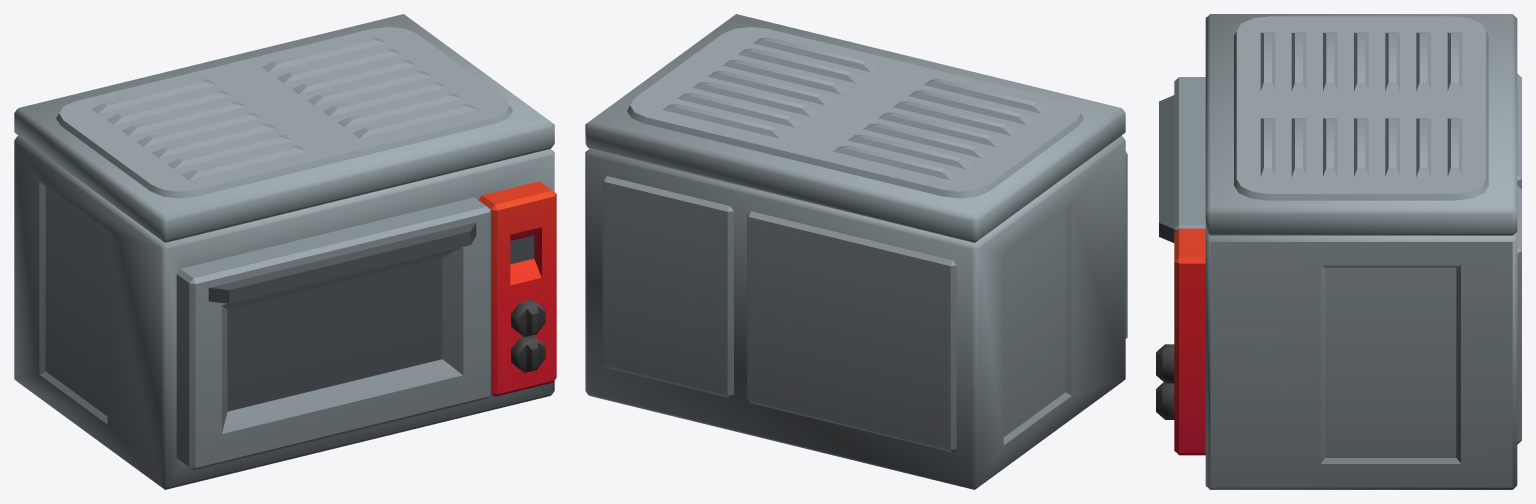
Rendered from pizza_oven.gltf.
3 renders of one model, left to right at view 1: azimuth 30°, elevation 25°; view 2: azimuth 150°, elevation 25°; view 3: azimuth 270°, elevation 25°, orthographic. The views are drawn at different scales.
Visible parts, largest first — view 1: pizza_oven, pizza_oven_door; view 2: pizza_oven; view 3: pizza_oven, pizza_oven_door.
Part boxes in pixels (<box>): pizza_oven: <box>14,14,556,489</box>; pizza_oven_door: <box>176,197,490,470</box>; pizza_oven: <box>585,14,1125,489</box>; pizza_oven: <box>1156,14,1521,489</box>; pizza_oven_door: <box>1159,77,1205,242</box>.
Size of the model in its own units: 3 by 2.07 by 2.35.
Materials: 1 (1 with a texture image).
